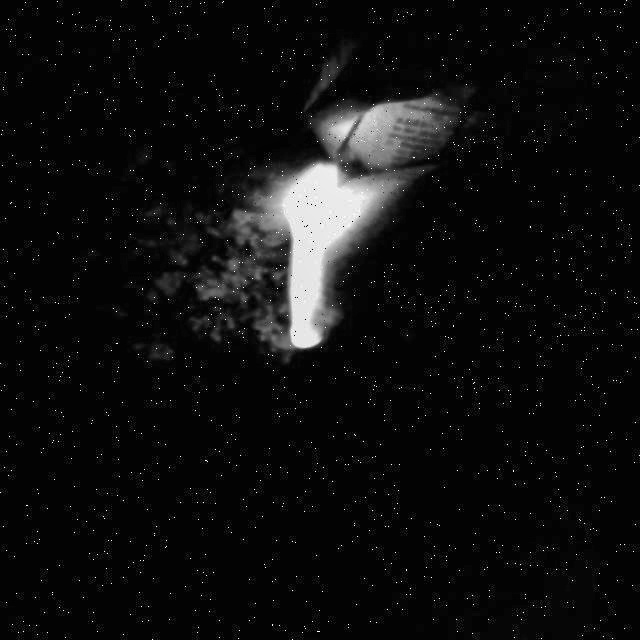Fire: (259, 149, 376, 350)
